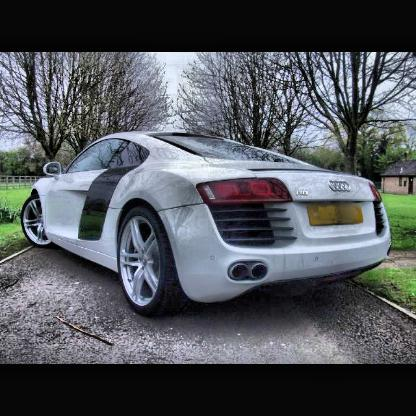Audi R8 Coupe 2012: (24, 131, 394, 321)
